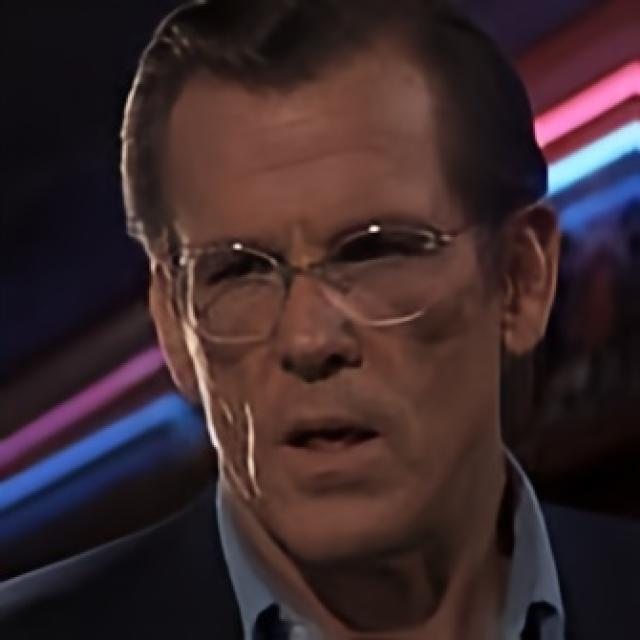anger: (170, 61, 499, 558)
